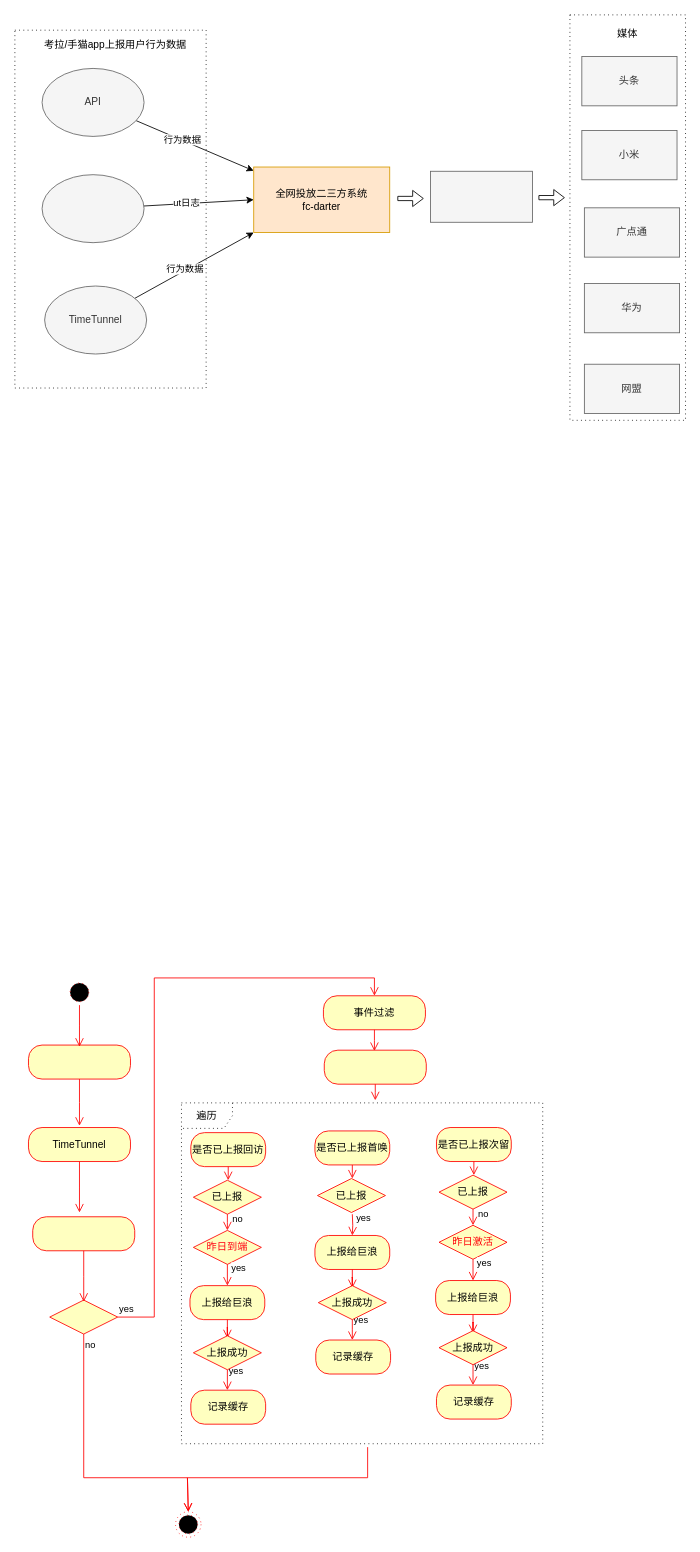
Image size: 700x1552. Some labels were removed from this diagram. Here are the shapes that lost their labels. From the top down, the centre of each, then its label:
At point (92, 208): "metaq".
At point (481, 196): "巨浪".
At point (79, 1061): "客户端上报到端事件".
At point (374, 1066): "处理器匹配、获取".
At point (83, 1233): "事件校验".
At point (83, 1316): "是否有效".
